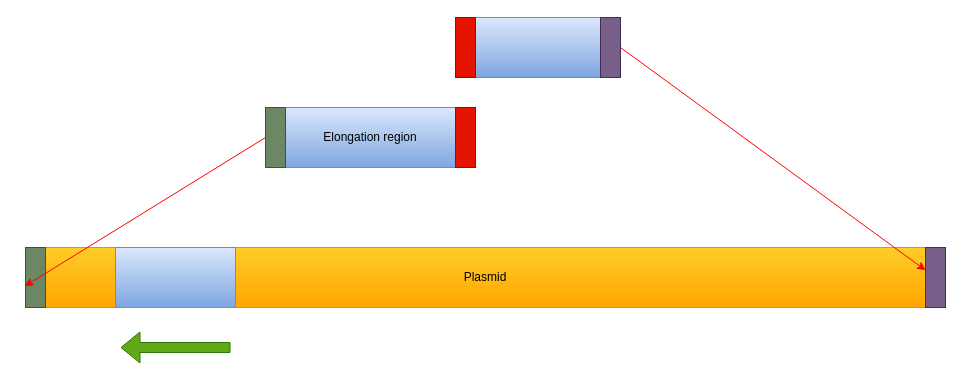
Some shapes in this 963 by 381 pixel diagram are drawn without their labels. The box of each missing label's shape, as (x1, y1, x2, y2) in pixels:
Promotor: (114, 246, 236, 308)
Termination region: (460, 16, 620, 78)
